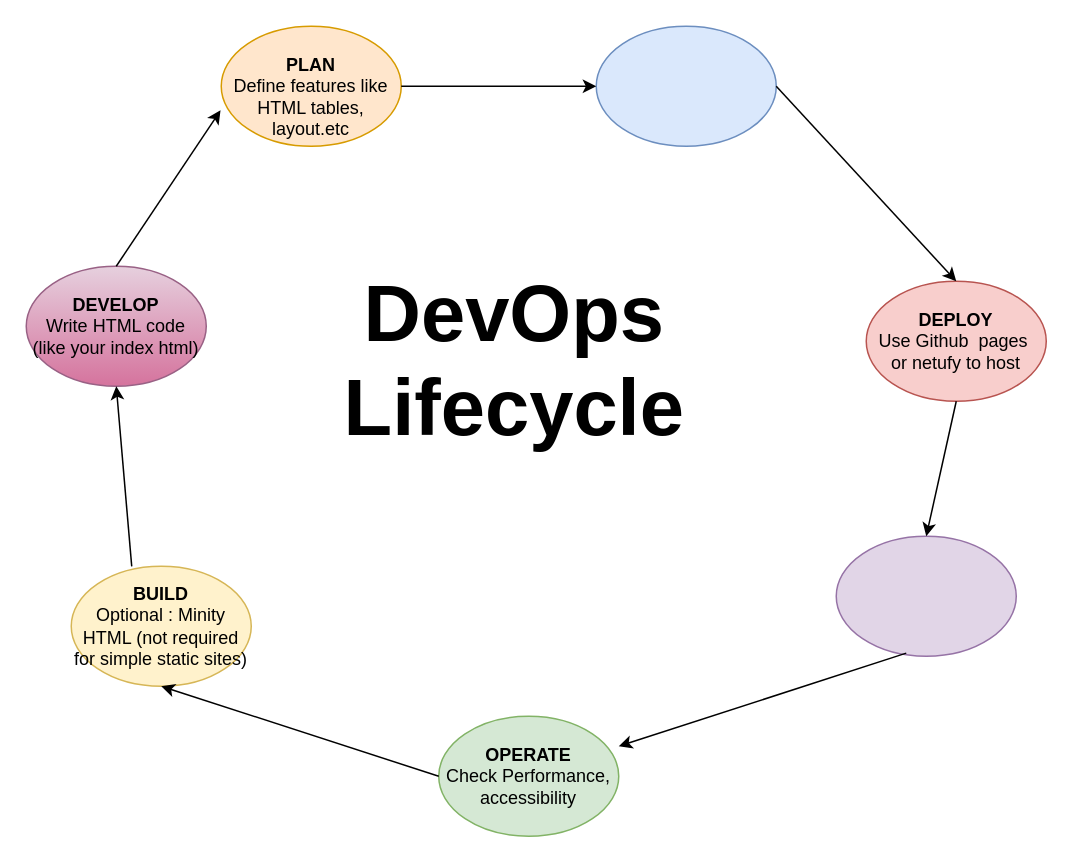
The diagram is 1073 pixels wide and 863 high, and some of its shapes have lost their labels. Each missing label, with the box of its shape:
INTEGRATE Use Git+GitHub for version control: (595, 25, 776, 146)
MONITOR Use Github insights lighthouse: (835, 535, 1016, 656)
